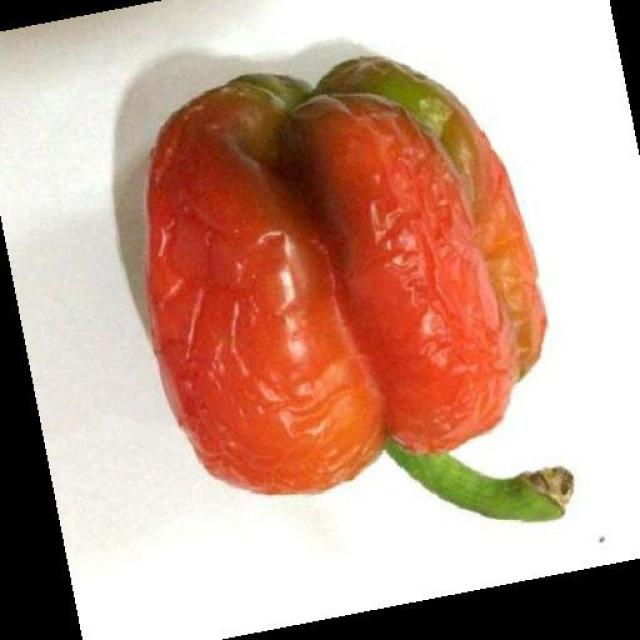Stale_Capsicum: (147, 37, 610, 553)
